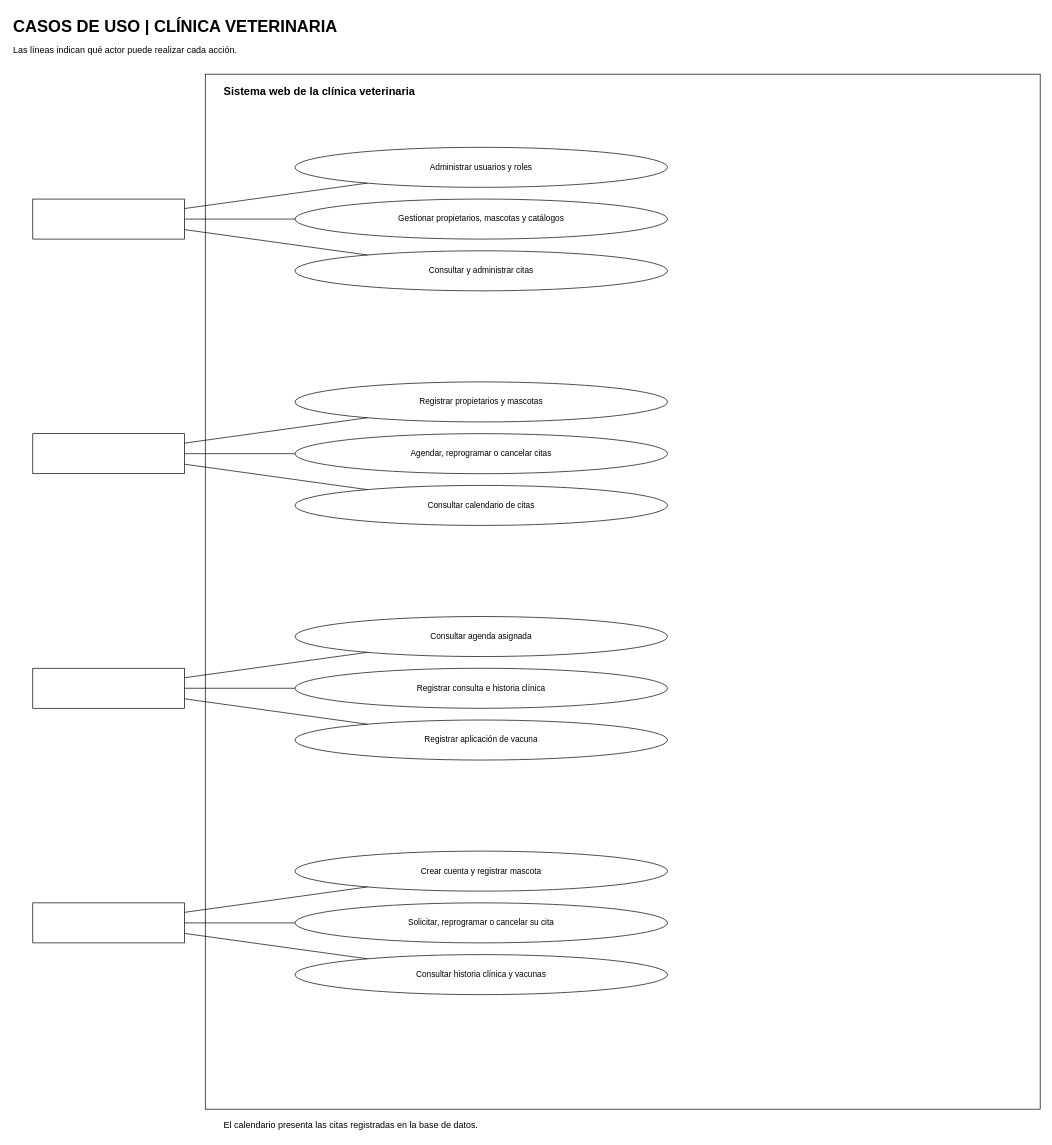
Some shapes in this 1052 by 1145 pixel diagram are drawn without their labels. The shapes that lost their labels are listed below. From the top down, each one's centre as x and y in pixels, then its label:
At pixel 108 218: "Administrador".
At pixel 108 453: "Recepcionista".
At pixel 108 688: "Veterinario".
At pixel 108 922: "Propietario".
